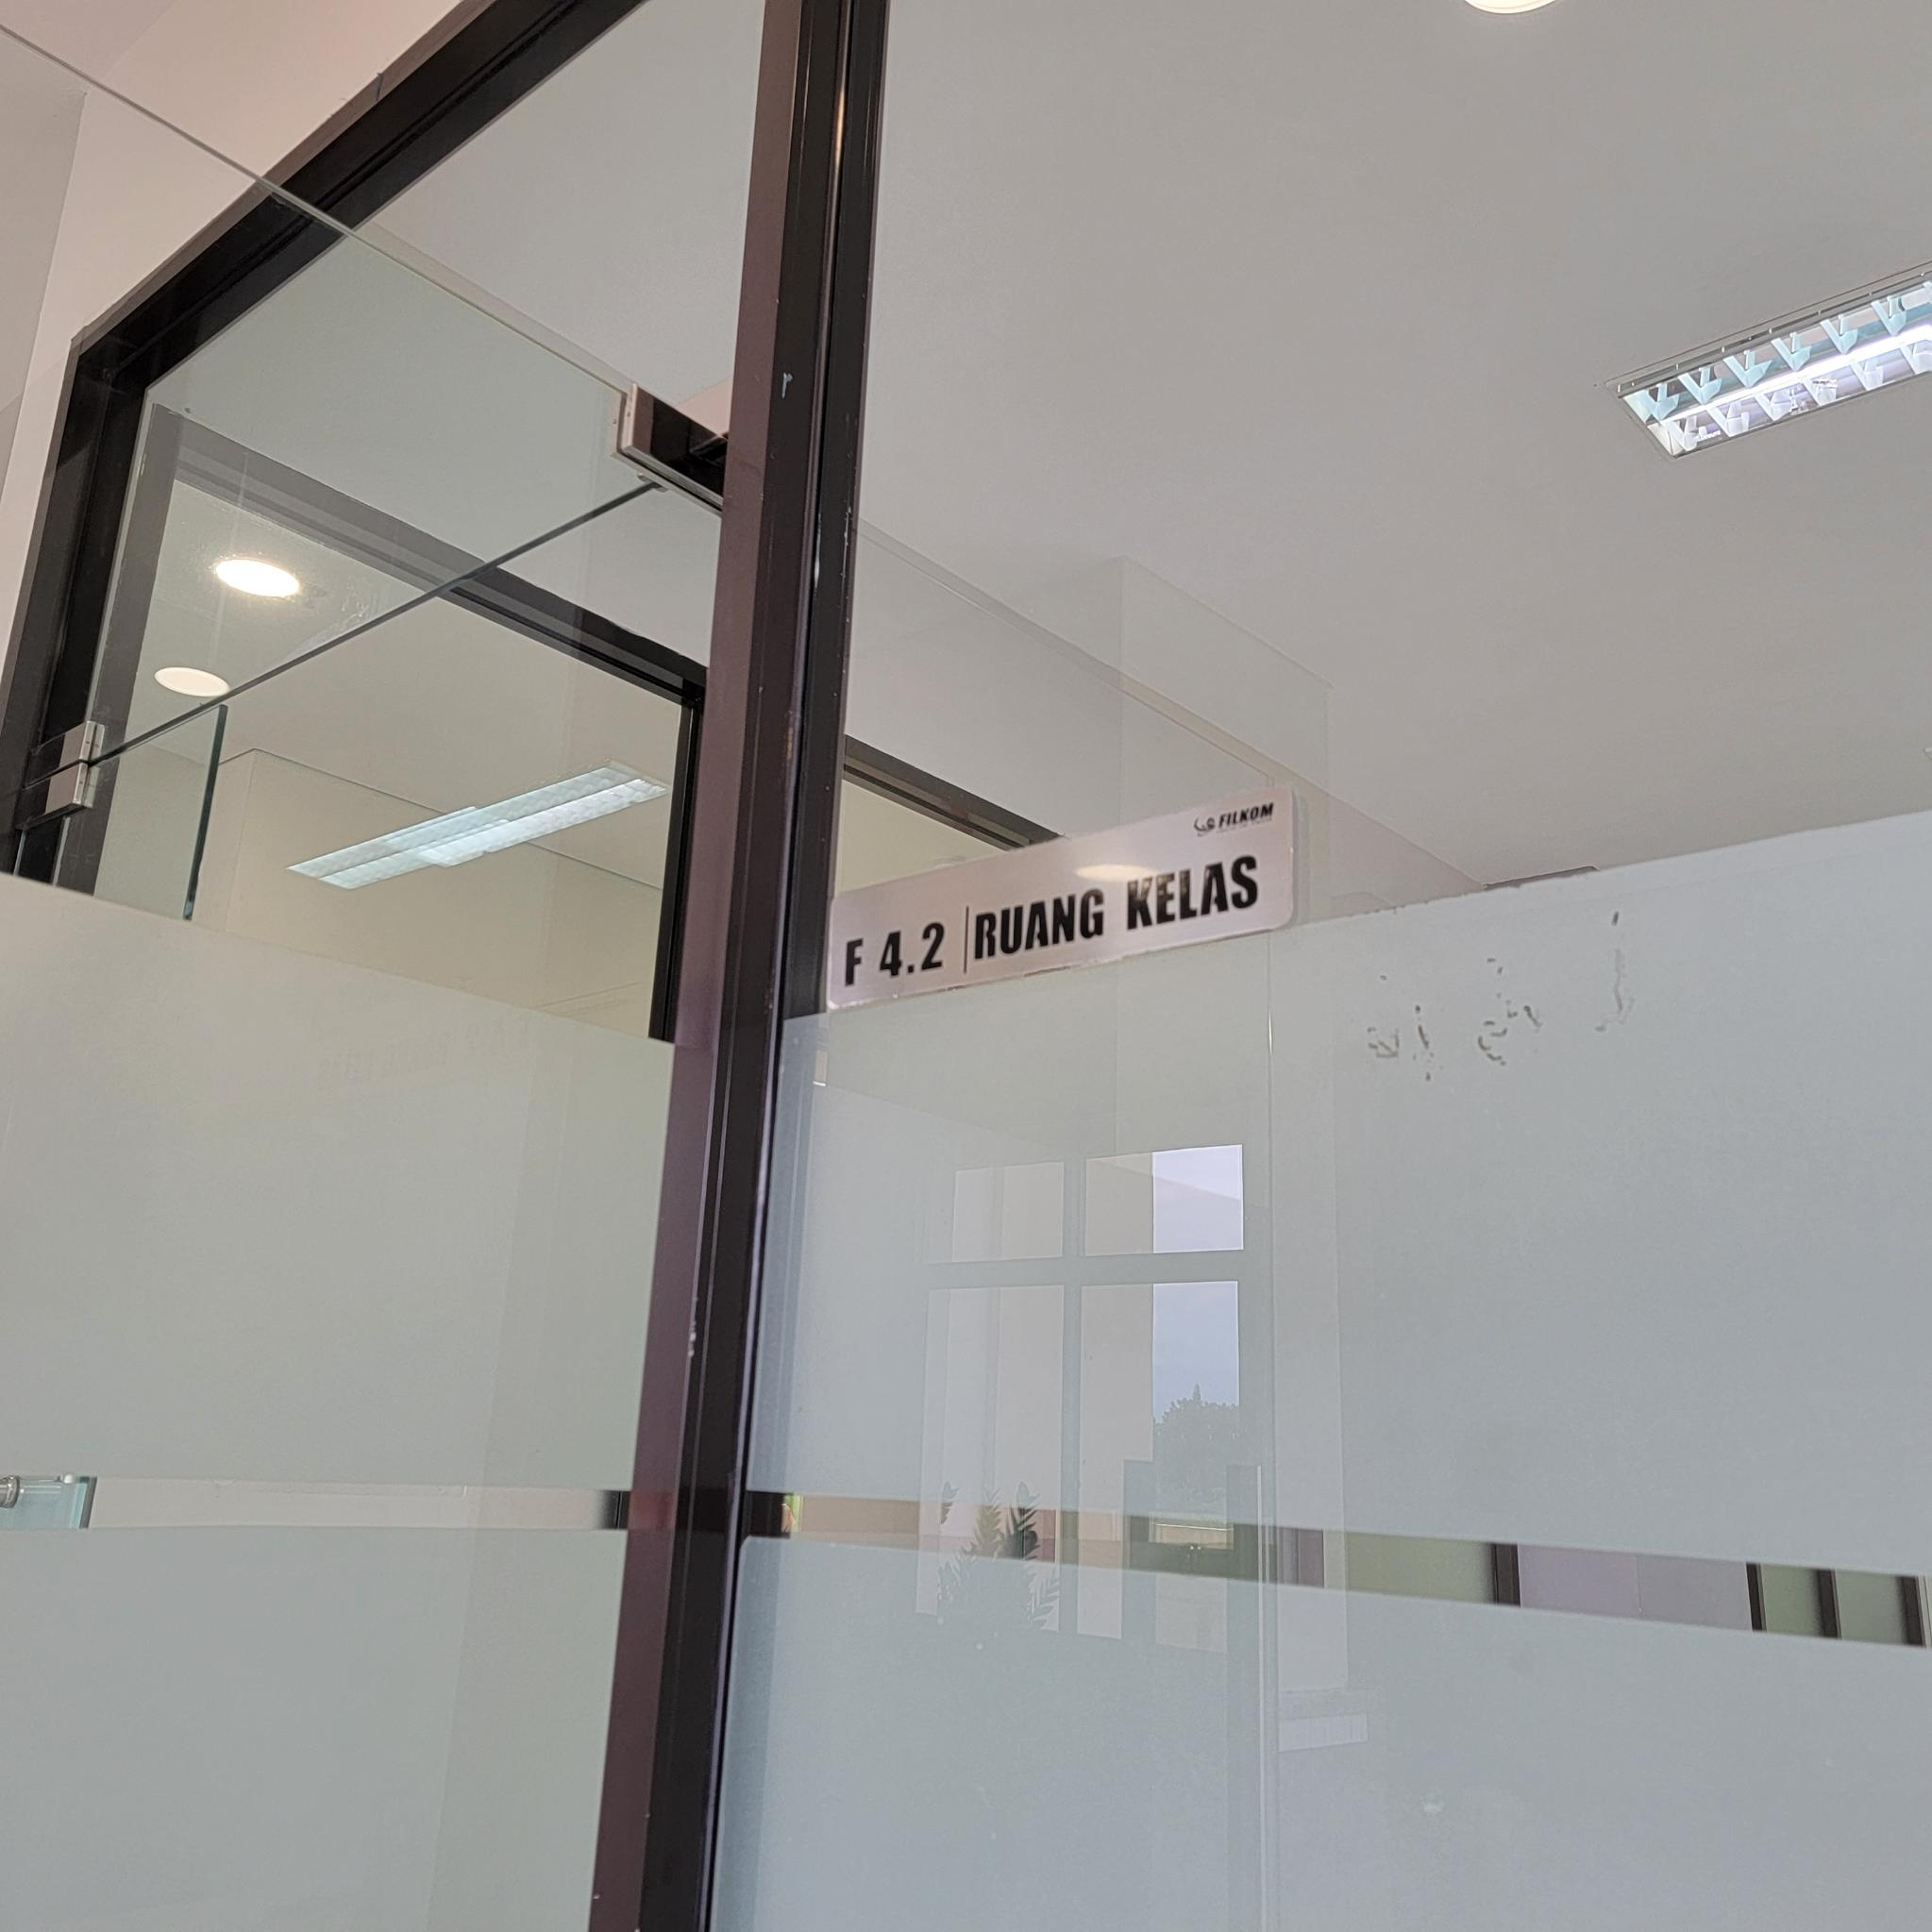plate: (826, 784, 1297, 1010)
